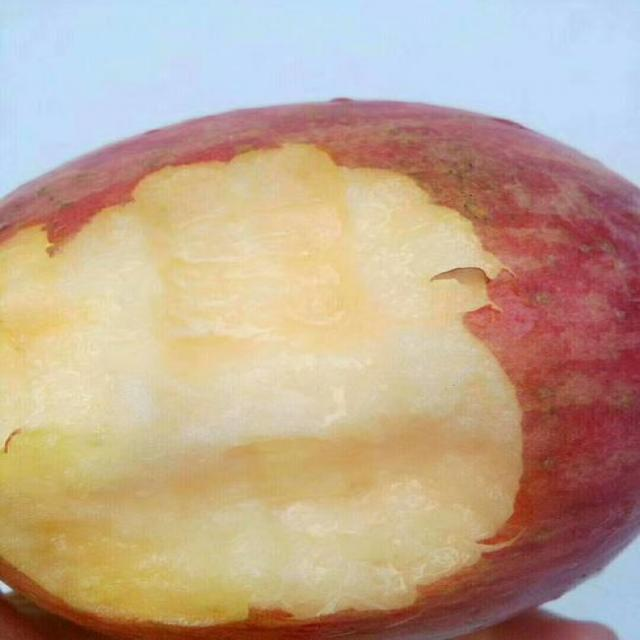Rotten: (6, 95, 640, 640)
